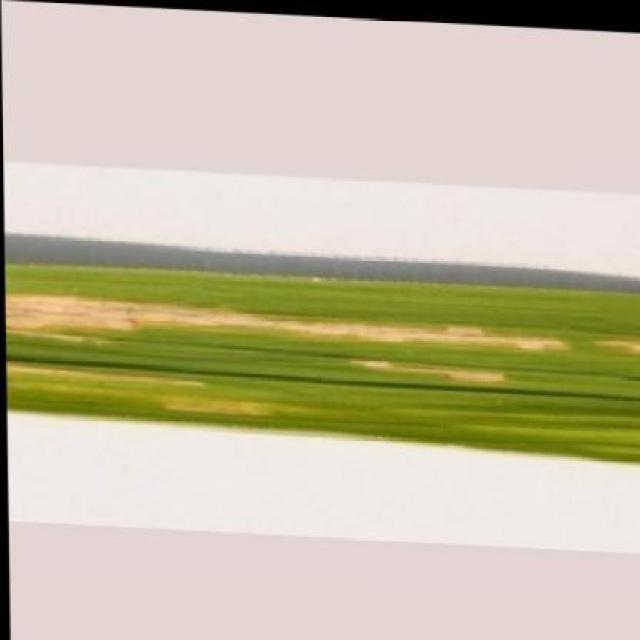Brown_Spot: (3, 258, 640, 465)
